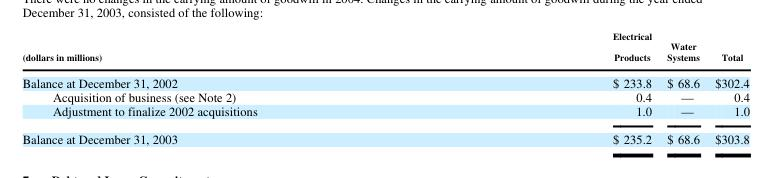table: (21, 28, 748, 146)
table column: (21, 28, 434, 146), (434, 28, 658, 146), (658, 28, 706, 146), (706, 28, 748, 146)
table column header: (21, 28, 748, 68)
table row: (21, 28, 748, 68), (21, 124, 748, 146), (21, 68, 748, 89), (21, 103, 748, 124), (21, 89, 748, 103)
